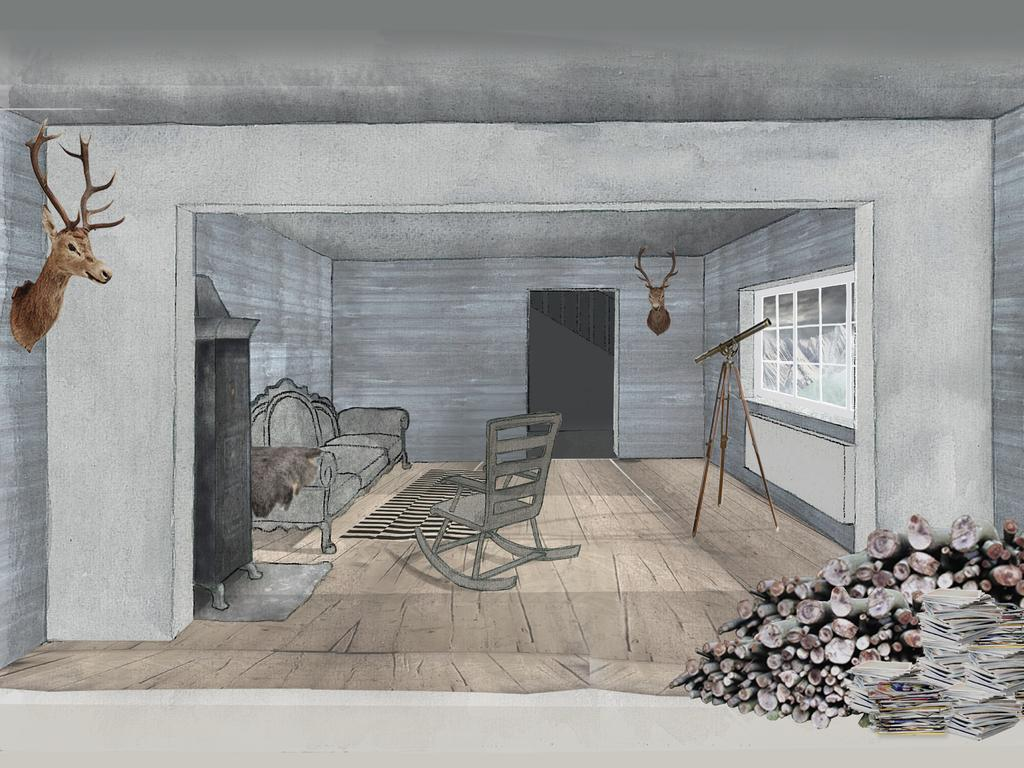Chair: (392, 394, 566, 604)
